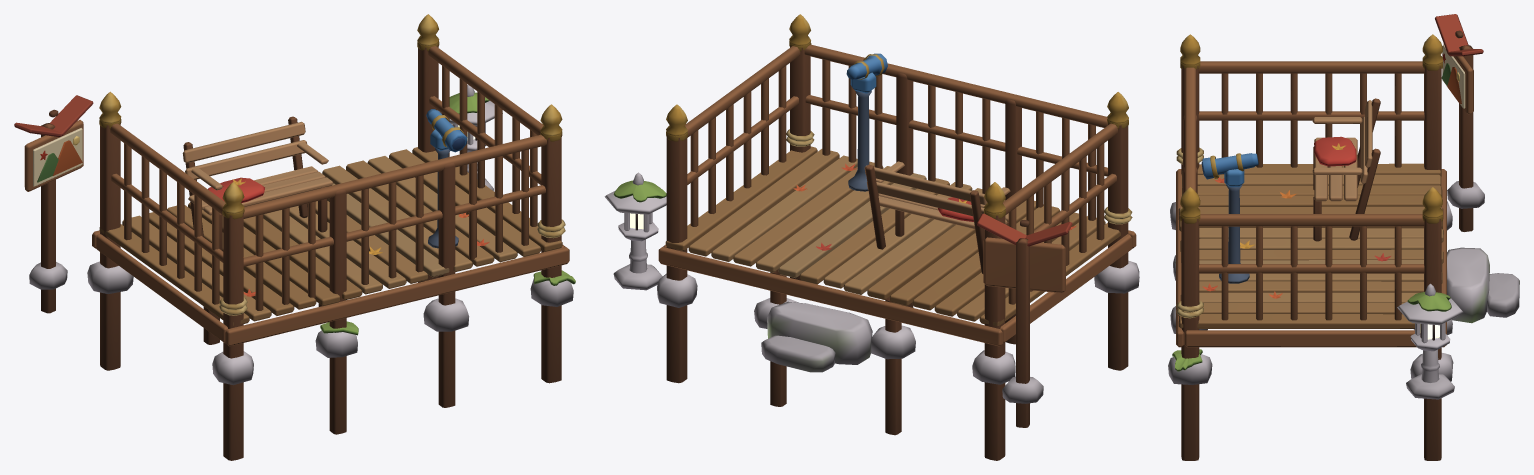
File: rg-maple-lookout.glb
3 views of the same model, side by side, from view 1: azimuth 30°, elevation 25°; view 2: azimuth 150°, elevation 25°; view 3: azimuth 270°, elevation 25° (orthographic).
Parts seen in each view (by area): view 1: lookout; view 2: lookout; view 3: lookout.
Boxes of the visible parts, x1,y1,x2,y2 form: lookout: (14,14,575,460); lookout: (604,14,1139,460); lookout: (1168,14,1519,460).
Bounding box in the file's own units: 4.5 × 2.51 × 2.96.
